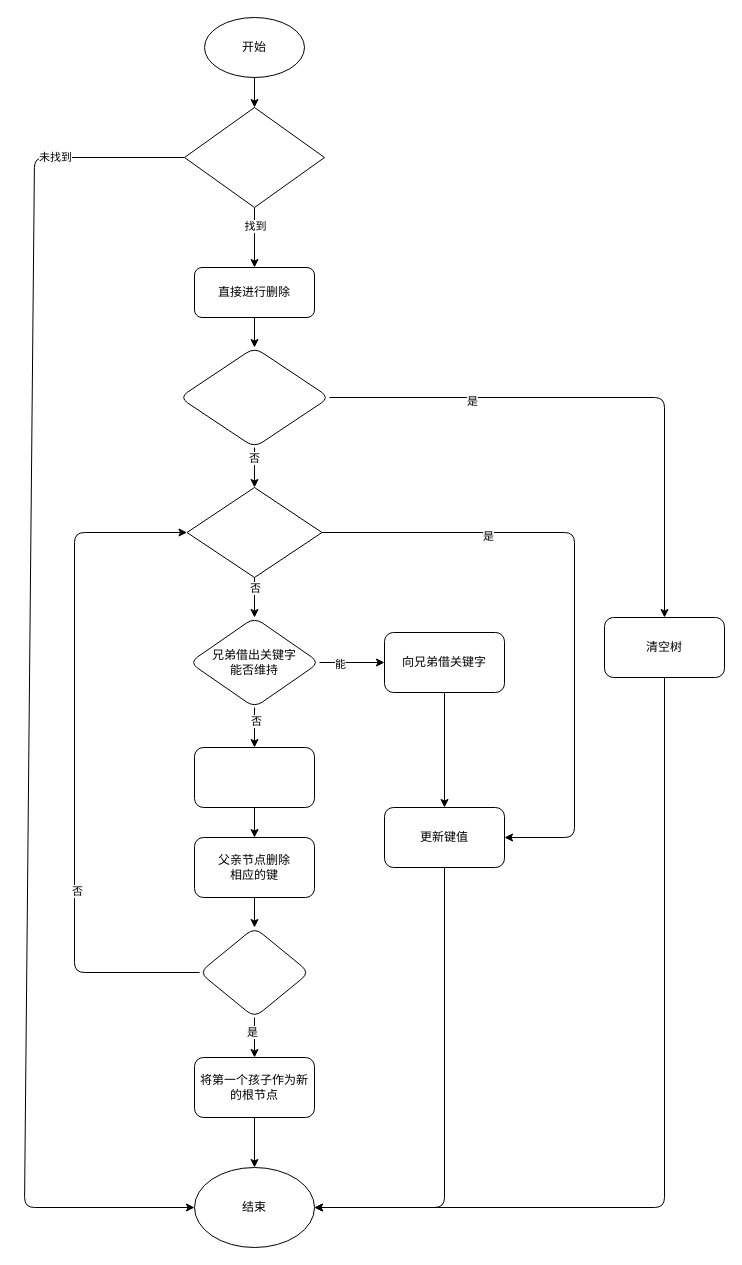
Some shapes in this 742 by 1265 pixel diagram are drawn without their labels. Each missing label, with the centre of its shape:
"右边节点往左边节点合并" belongs at point (254, 777).
"查找待删除元素 所在叶子节点位置" belongs at point (254, 157).
"节点 自身能维持" belongs at point (254, 532).
"节点是否被删空" belongs at point (254, 972).
"若当前节点为根节点 且所有元素均被删除" belongs at point (254, 397).
